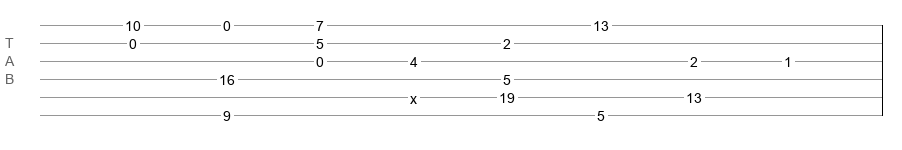0: (129, 36, 137, 46), (223, 18, 231, 28), (316, 54, 324, 64)
1: (784, 54, 792, 64)
10: (125, 18, 141, 28)
13: (593, 18, 609, 28), (686, 90, 702, 100)
16: (219, 72, 235, 82)
19: (499, 90, 515, 100)
2: (503, 36, 511, 46), (690, 54, 698, 64)
4: (410, 54, 418, 64)
5: (316, 36, 324, 46), (503, 72, 511, 82), (597, 108, 605, 118)
7: (316, 18, 324, 28)
9: (223, 108, 231, 118)
x: (410, 91, 417, 99)
